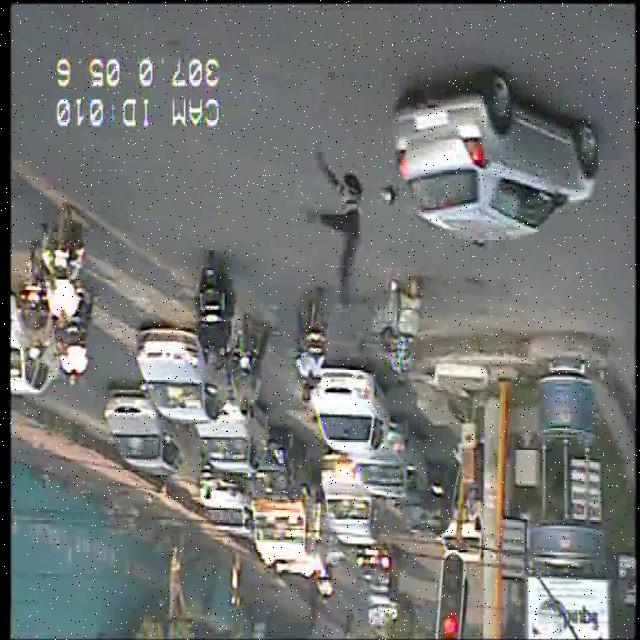accidents: (257, 98, 521, 280)
